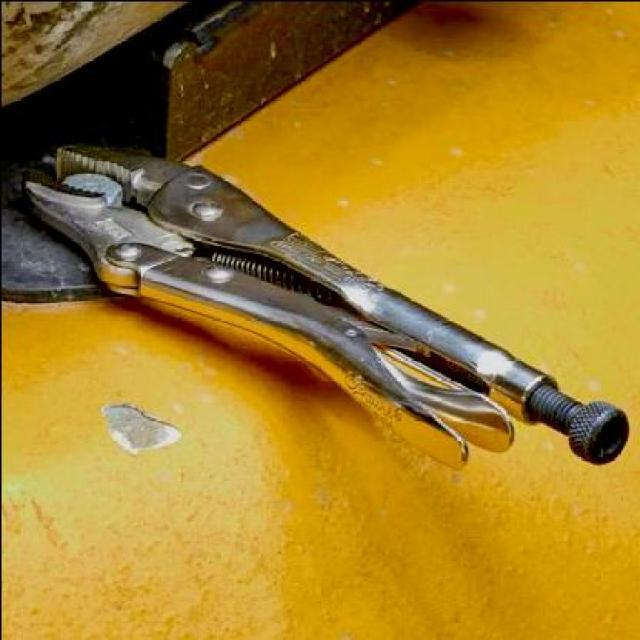pliers: (20, 137, 629, 474)
